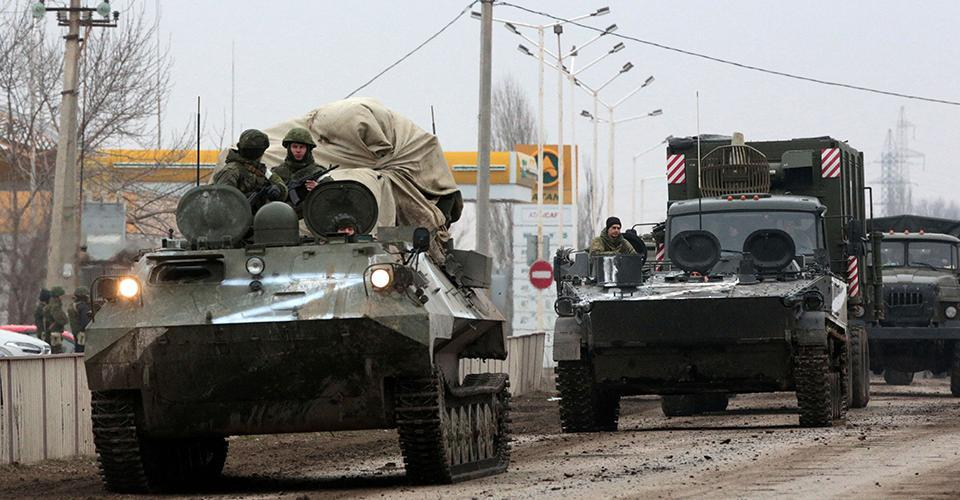person: (278, 122, 349, 234), (202, 118, 277, 211), (70, 283, 94, 363), (590, 217, 638, 257), (32, 288, 55, 355), (48, 287, 67, 365)
tank: (99, 116, 492, 491), (546, 244, 845, 429)
truck: (668, 132, 873, 266), (864, 212, 960, 403)
